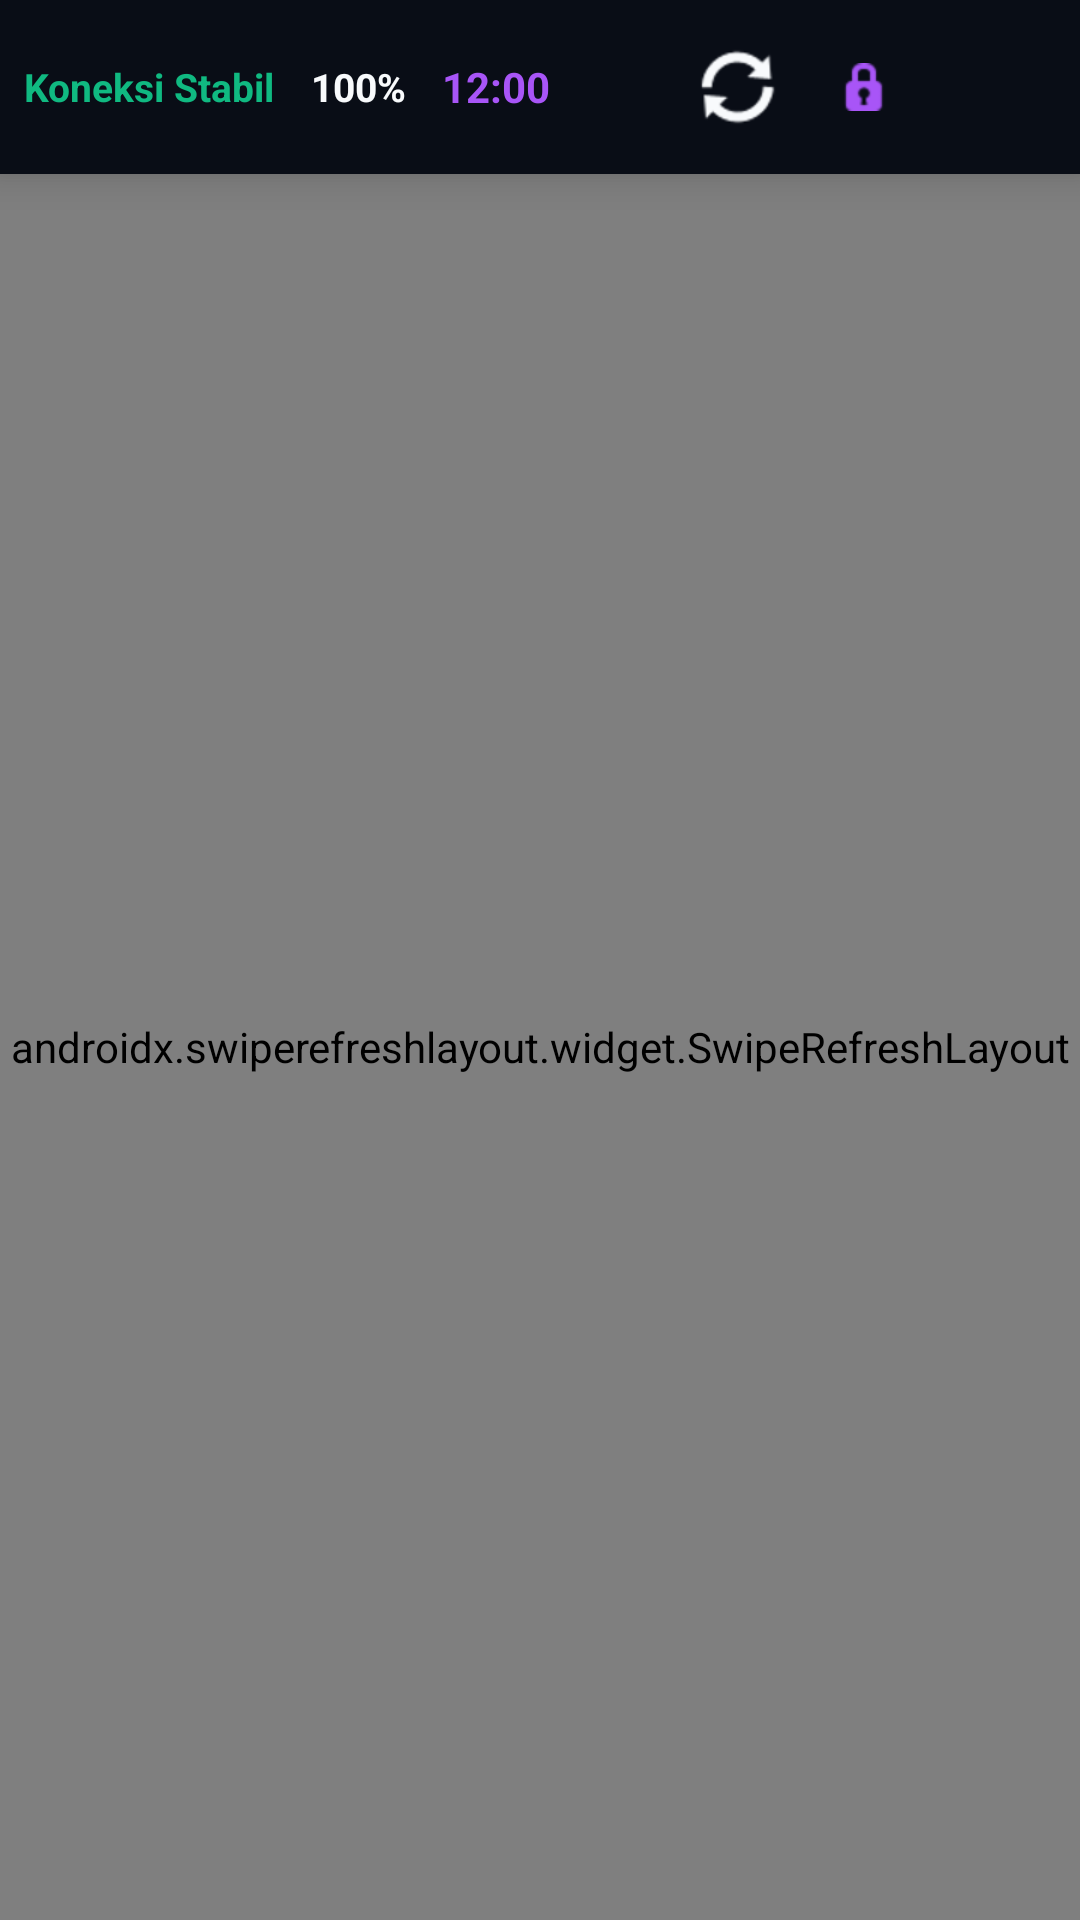

Icons on this 1080px×1920px Android screen, each with its box as rect(x1, y1, x2, y2):
Admin Unlock / Settings: rect(845, 63, 883, 111)
